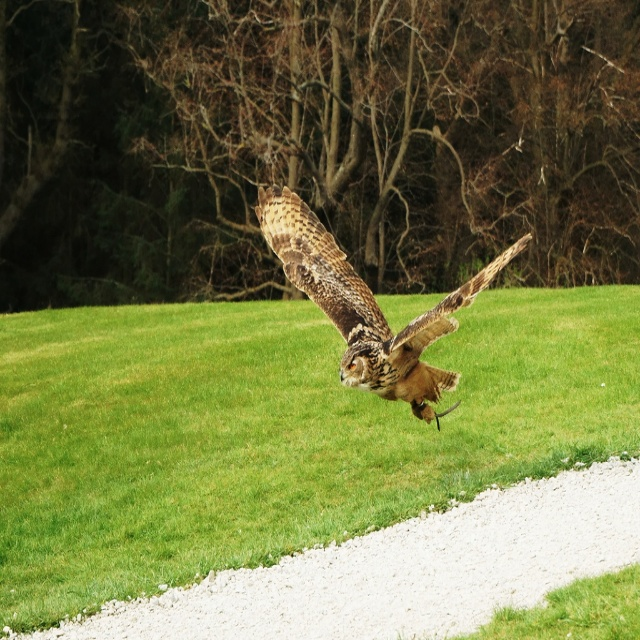Owl: (256, 186, 533, 437)
